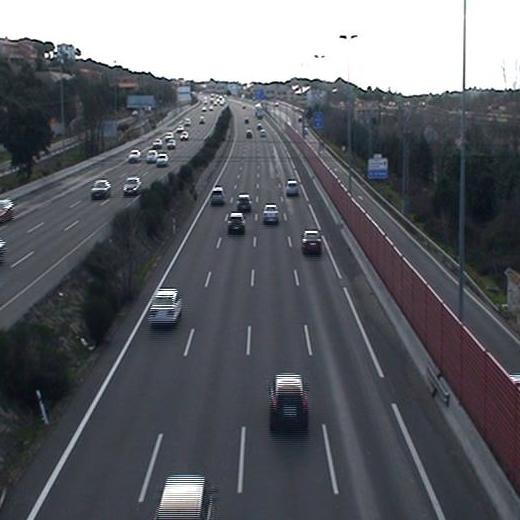car: (265, 370, 313, 436), (144, 285, 186, 332), (296, 227, 329, 259), (223, 209, 250, 239), (259, 201, 284, 227), (208, 185, 229, 208), (234, 192, 254, 213), (284, 179, 302, 199)
